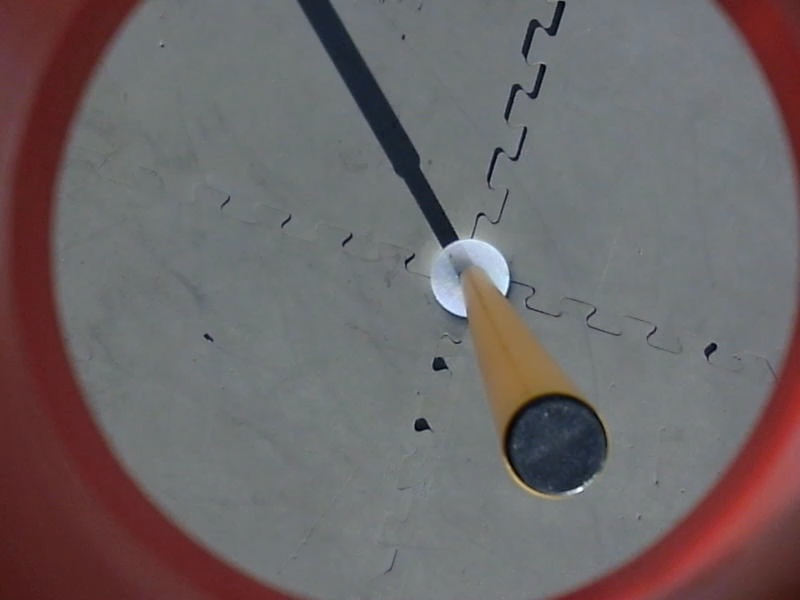tip: (497, 384, 615, 499)
